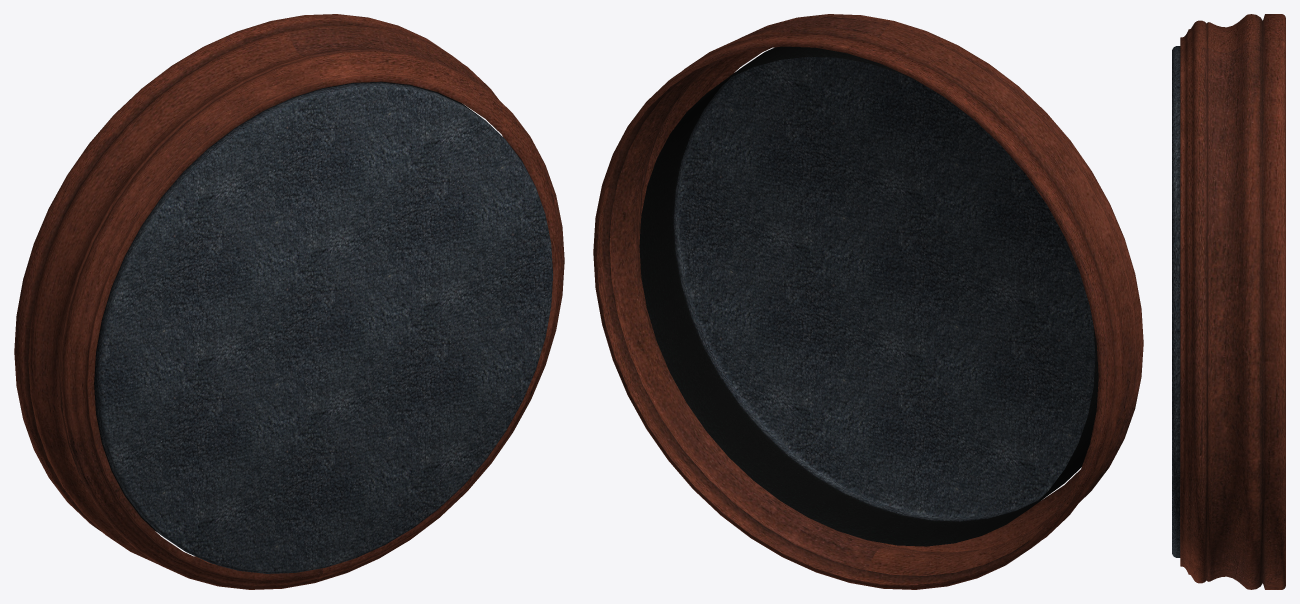
Rendered from drum.obj.
The picture shows the model from 3 angles, left to right: view 1: azimuth 30°, elevation 25°; view 2: azimuth 150°, elevation 25°; view 3: azimuth 270°, elevation 25°; orthographic projection. The views are drawn at different scales.
Size of the model in its own units: 49.2 by 49.2 by 9.72.
Materials: 1 (1 with a texture image).
